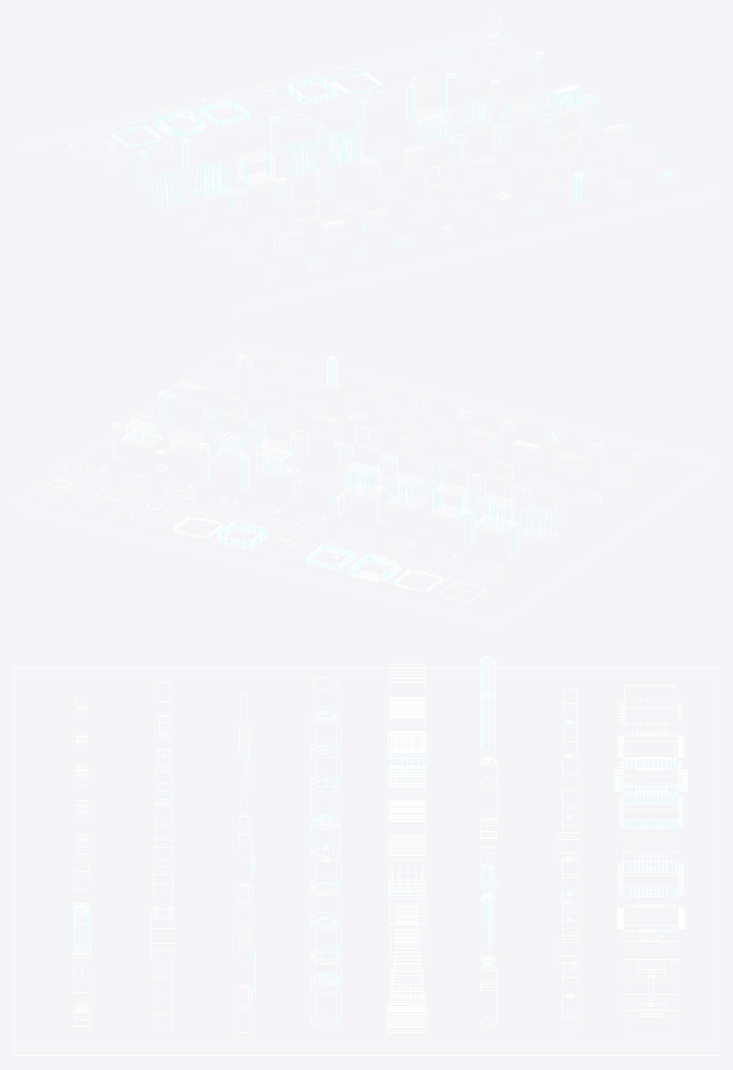
The model's file is component_reference-outline.glb.
The picture shows the model from 3 angles, top to bottom: view 1: azimuth 30°, elevation 25°; view 2: azimuth 150°, elevation 25°; view 3: azimuth 270°, elevation 25°; orthographic projection. The views are drawn at different scales.
Parts seen in each view (by area): view 1: outline_parts; view 2: outline_parts; view 3: outline_parts.
Boxes of the visible parts, left/top/right/bottom form: outline_parts: left=14, top=14, right=718, bottom=313; outline_parts: left=14, top=342, right=718, bottom=627; outline_parts: left=14, top=656, right=718, bottom=1055.
Size of the model in its own units: 33.02 by 2.75 by 26.02.
